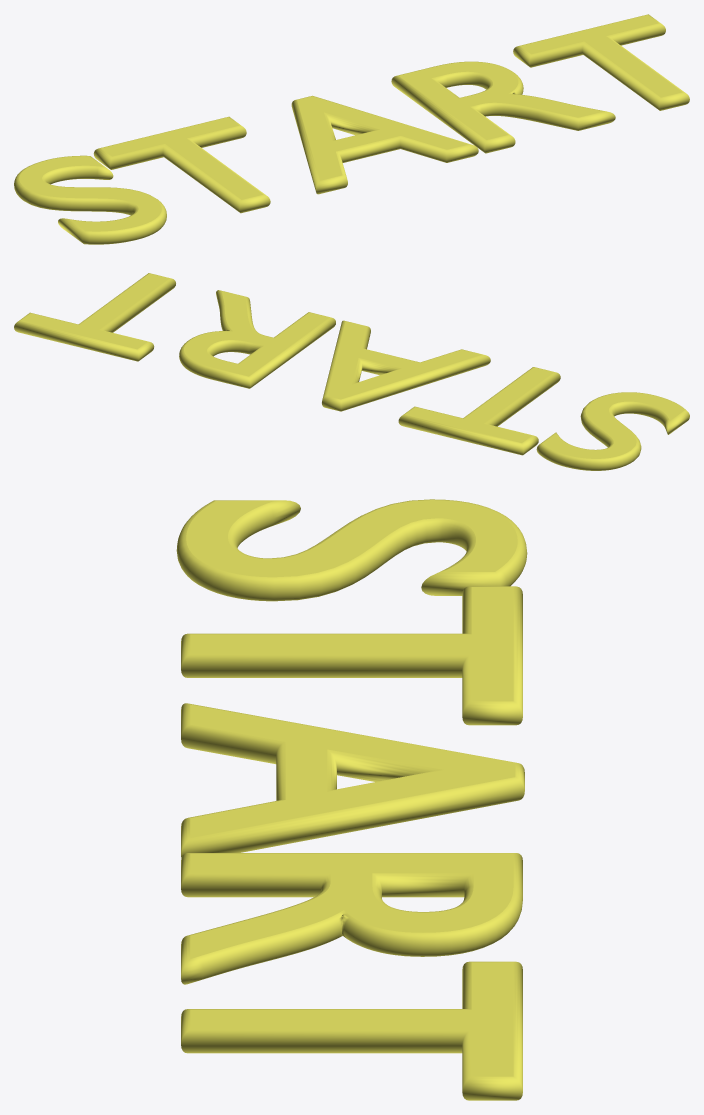
3 views of the same model, one above another, from view 1: azimuth 30°, elevation 25°; view 2: azimuth 150°, elevation 25°; view 3: azimuth 270°, elevation 25° (orthographic). The views are drawn at different scales.
Visible parts, largest first — view 1: start; view 2: start; view 3: start.
Boxes of the visible parts, x1,y1,x2,y2 form: start: (14, 14, 689, 244); start: (14, 273, 689, 470); start: (176, 499, 527, 1100).
Size of the model in its own units: 1.09 by 0.2774 by 0.0204.
